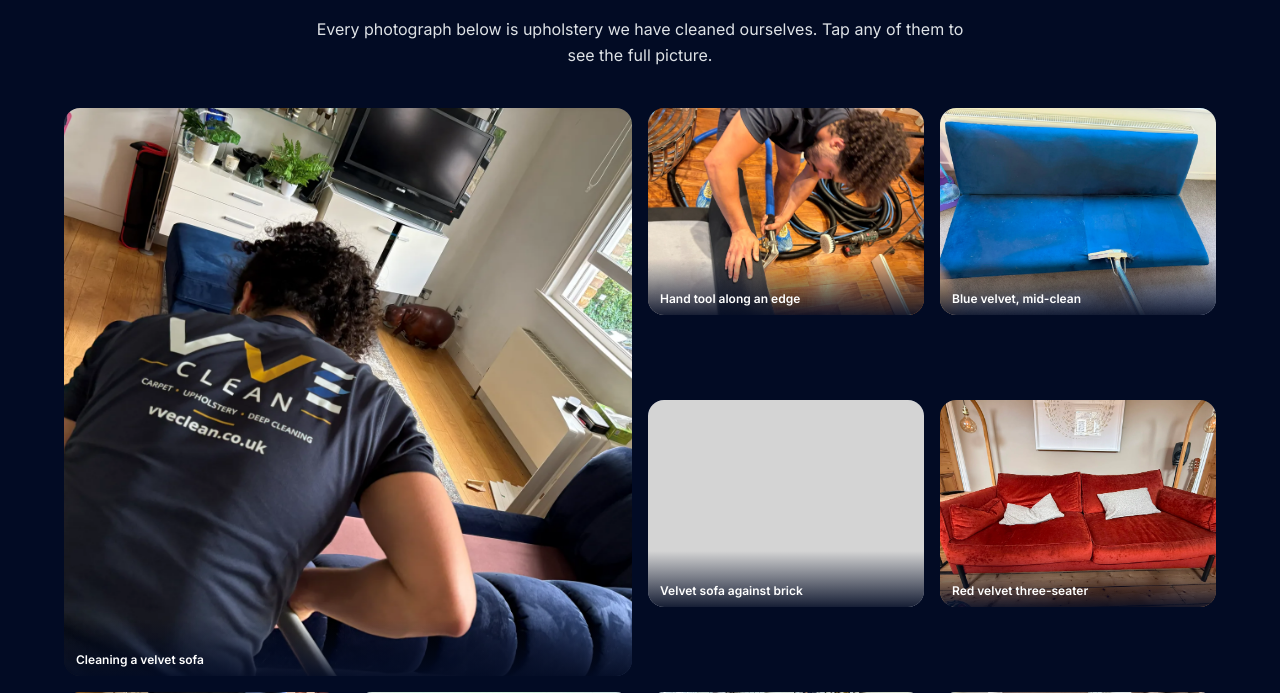
it: the shared lightbox › navigates with the arrow keys
(page scrolled)
Click the button with aria-label "View larger:".
click(348, 392)  # box [64, 108, 632, 676]
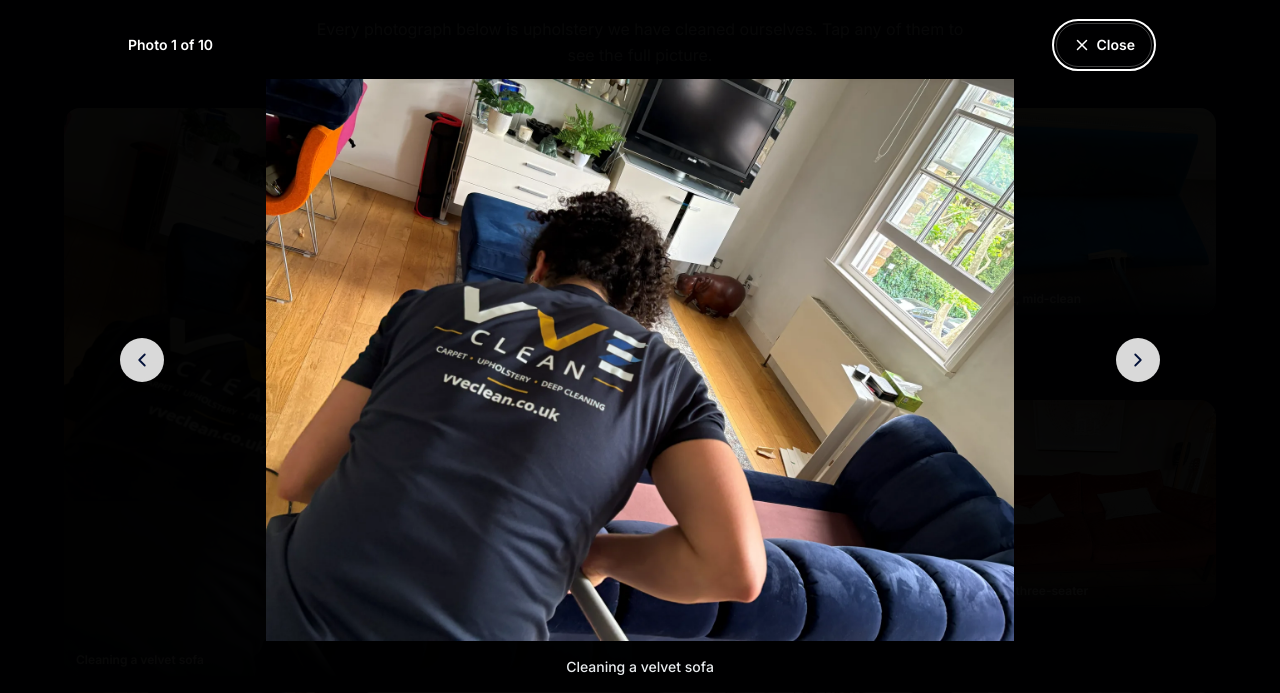
Press Arrowright
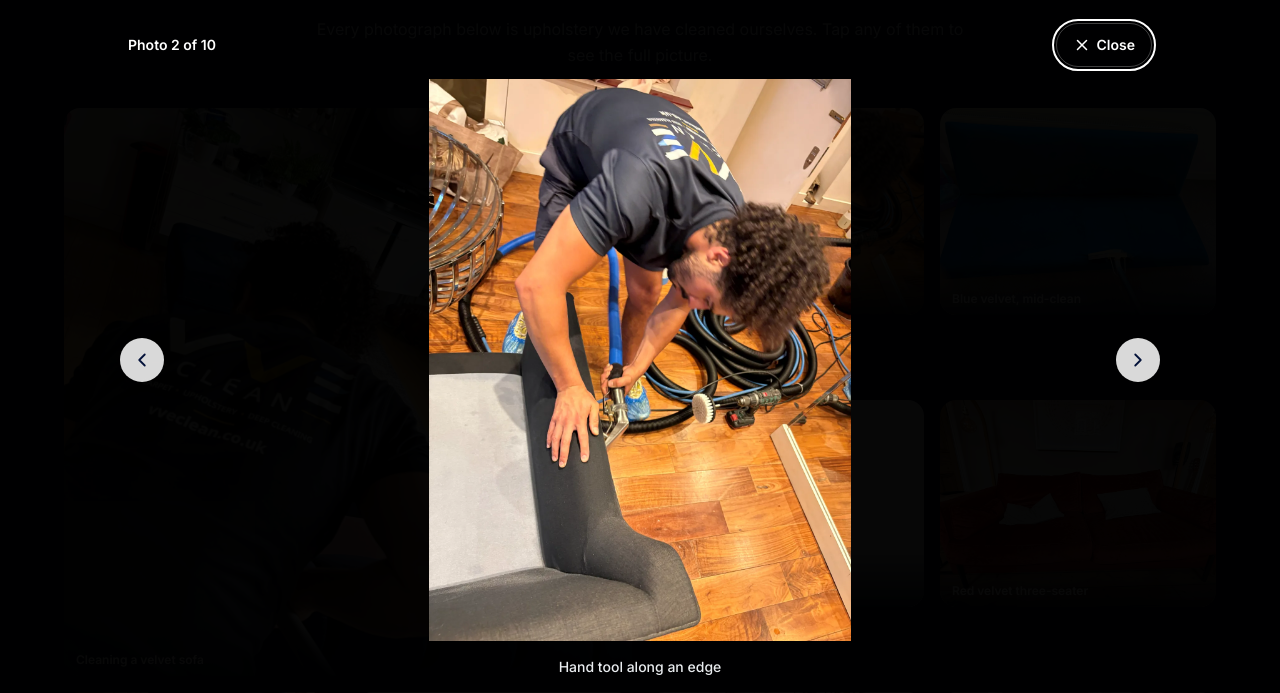
Now the text "Photo 2 of 10" is shown, box [128, 35, 216, 55]
